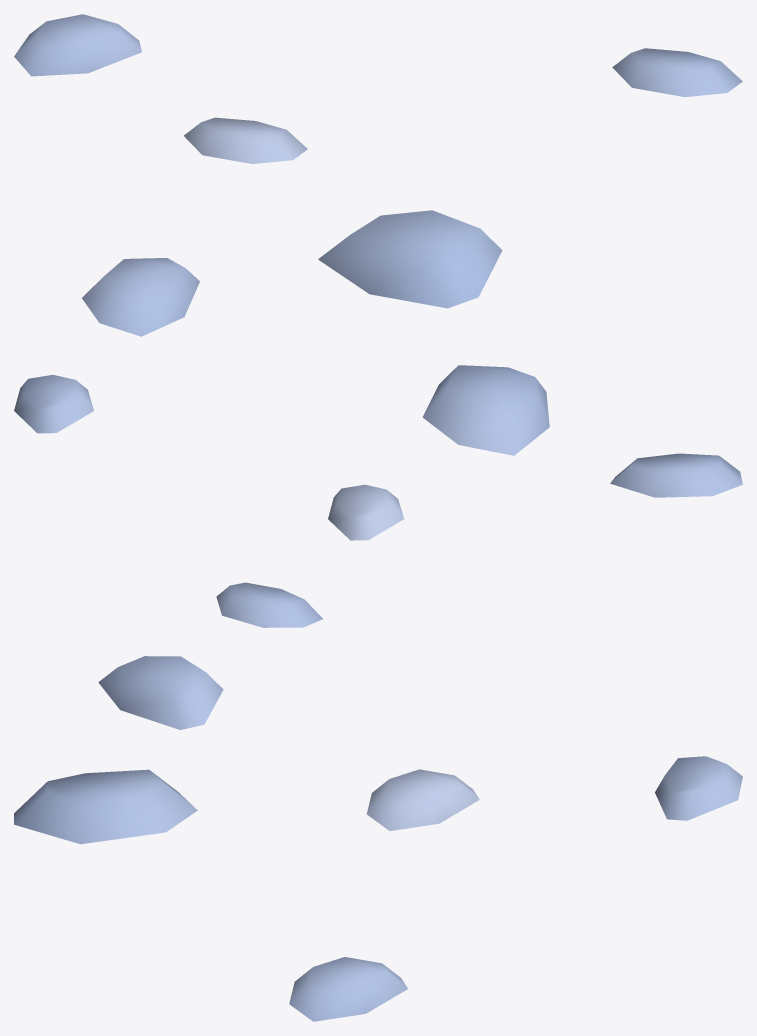
Rendered from mdl_Pebble.fbx.
3 views of the same model, one above another, from view 1: azimuth 30°, elevation 25°; view 2: azimuth 150°, elevation 25°; view 3: azimuth 270°, elevation 25° (orthographic). The views are drawn at different scales.
Parts seen in each view (by area): view 1: mdl_peeble; view 2: mdl_peeble; view 3: mdl_peeble.
Boxes of the visible parts, x1,y1,x2,y2 form: mdl_peeble: (14,14,742,336); mdl_peeble: (14,365,742,627); mdl_peeble: (14,656,742,1021).
Bounding box in the file's own units: 2.87 × 0.1574 × 2.51.
